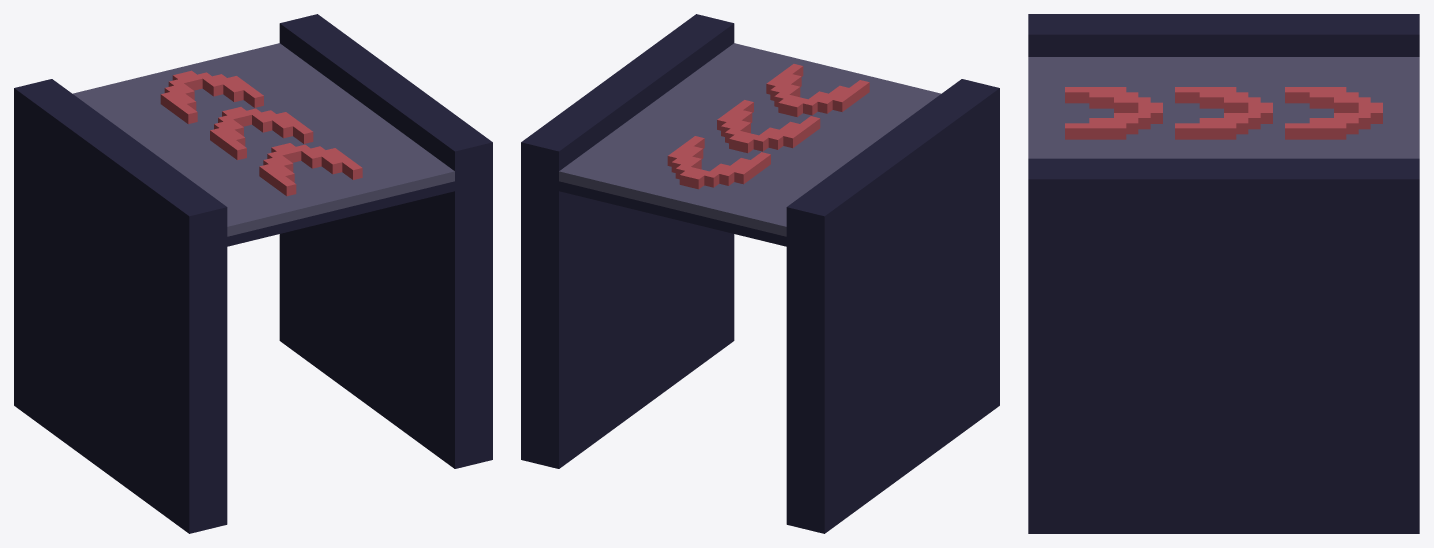
File: fast_conveyer.obj
3 renders of one model, left to right at view 1: azimuth 30°, elevation 25°; view 2: azimuth 150°, elevation 25°; view 3: azimuth 270°, elevation 25°, orthographic. The views are drawn at different scales.
Size of the model in its own units: 3.2 by 3.2 by 3.2.
1 material, 1 textured.
